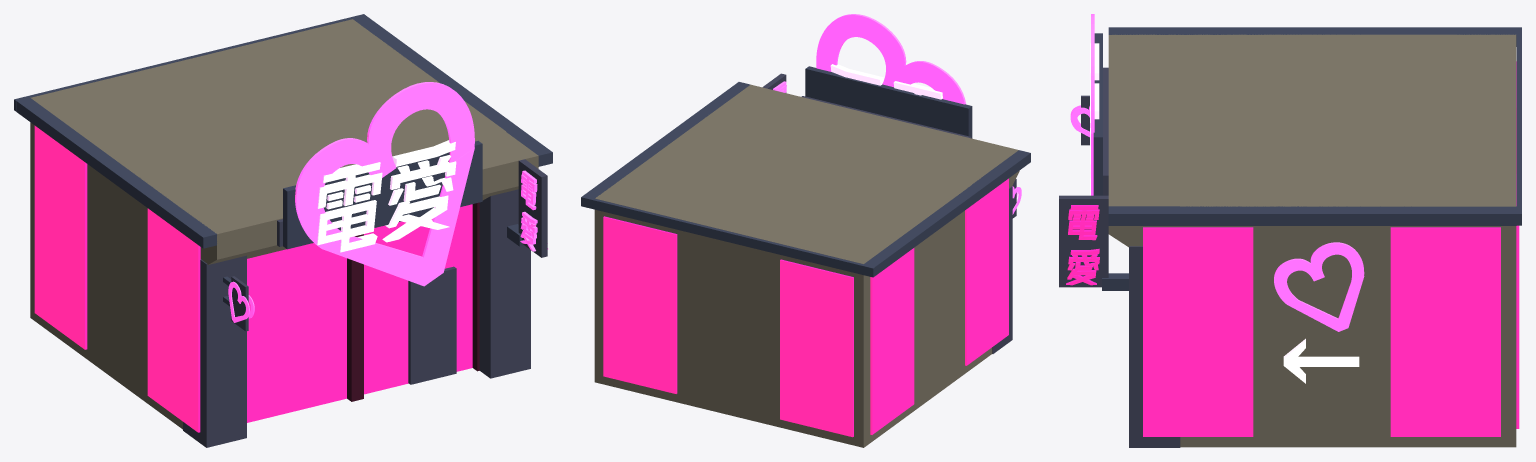
The picture shows the model from 3 angles, left to right: view 1: azimuth 30°, elevation 25°; view 2: azimuth 150°, elevation 25°; view 3: azimuth 270°, elevation 25°; orthographic projection. The views are drawn at different scales.
Visible parts, largest first — view 1: Cube.028, Cube.002, Text.003, Cube.017, Cube.016, Cube, Text.002, Cube.007, Cube.001, Cube.006, Cube.018, Cube.011 (+7 smaller); view 2: Cube.028, Cube.013, Cube.014, Cube.001, Cube.016, Cube.017, Cube.011, Text.003, Cube.020, Cube.018, Cube.019, Text.002 (+1 smaller); view 3: Cube.028, Cube.012, Cube.015, Cube.001, Cube.019, Cube.018, Cube, Text.004, Cube.008, Text, Cube.020, Text.005 (+6 smaller).
Boxes of the visible parts, left/top/right/bottom form: Cube.028: left=30, top=19, right=505, bottom=429; Cube.002: left=247, top=204, right=472, bottom=422; Text.003: left=295, top=82, right=474, bottom=286; Cube.017: left=147, top=208, right=200, bottom=432; Cube.016: left=34, top=125, right=87, bottom=349; Cube: left=479, top=189, right=530, bottom=378; Text.002: left=317, top=140, right=456, bottom=252; Cube.007: left=183, top=255, right=246, bottom=447; Cube.001: left=184, top=132, right=538, bottom=264; Cube.006: left=408, top=266, right=456, bottom=384; Cube.018: left=16, top=98, right=216, bottom=248; Cube.011: left=283, top=140, right=482, bottom=249; Cube.028: left=594, top=104, right=992, bottom=447; Cube.013: left=603, top=216, right=677, bottom=393; Cube.014: left=780, top=259, right=853, bottom=437; Cube.001: left=724, top=84, right=1019, bottom=187; Cube.016: left=870, top=248, right=914, bottom=434; Cube.017: left=965, top=178, right=1008, bottom=365; Cube.011: left=805, top=66, right=972, bottom=138; Text.003: left=816, top=14, right=966, bottom=104; Cube.020: left=581, top=196, right=875, bottom=277; Cube.018: left=864, top=150, right=1030, bottom=275; Cube.019: left=583, top=82, right=750, bottom=198; Text.002: left=830, top=64, right=942, bottom=99; Cube.028: left=1180, top=34, right=1516, bottom=447; Cube.012: left=1143, top=227, right=1253, bottom=436; Cube.015: left=1390, top=227, right=1500, bottom=436; Cube.001: left=1108, top=34, right=1180, bottom=247; Cube.019: left=1108, top=206, right=1516, bottom=225; Cube.018: left=1108, top=27, right=1516, bottom=46; Cube: left=1129, top=246, right=1180, bottom=447; Text.004: left=1274, top=242, right=1364, bottom=331; Cube.008: left=1059, top=195, right=1108, bottom=287; Text: left=1066, top=205, right=1099, bottom=285; Cube.020: left=1516, top=27, right=1521, bottom=225; Text.005: left=1283, top=338, right=1359, bottom=383.
Bounding box in the file's own units: 13.47 × 12.09 × 14.12.
